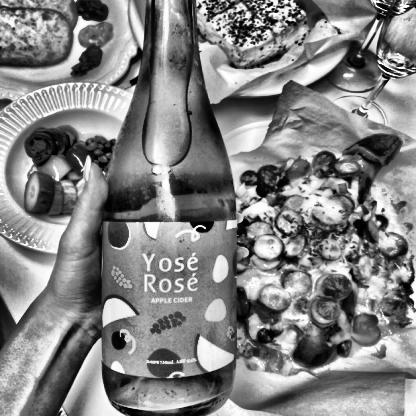yoserose: (100, 213, 237, 380)
